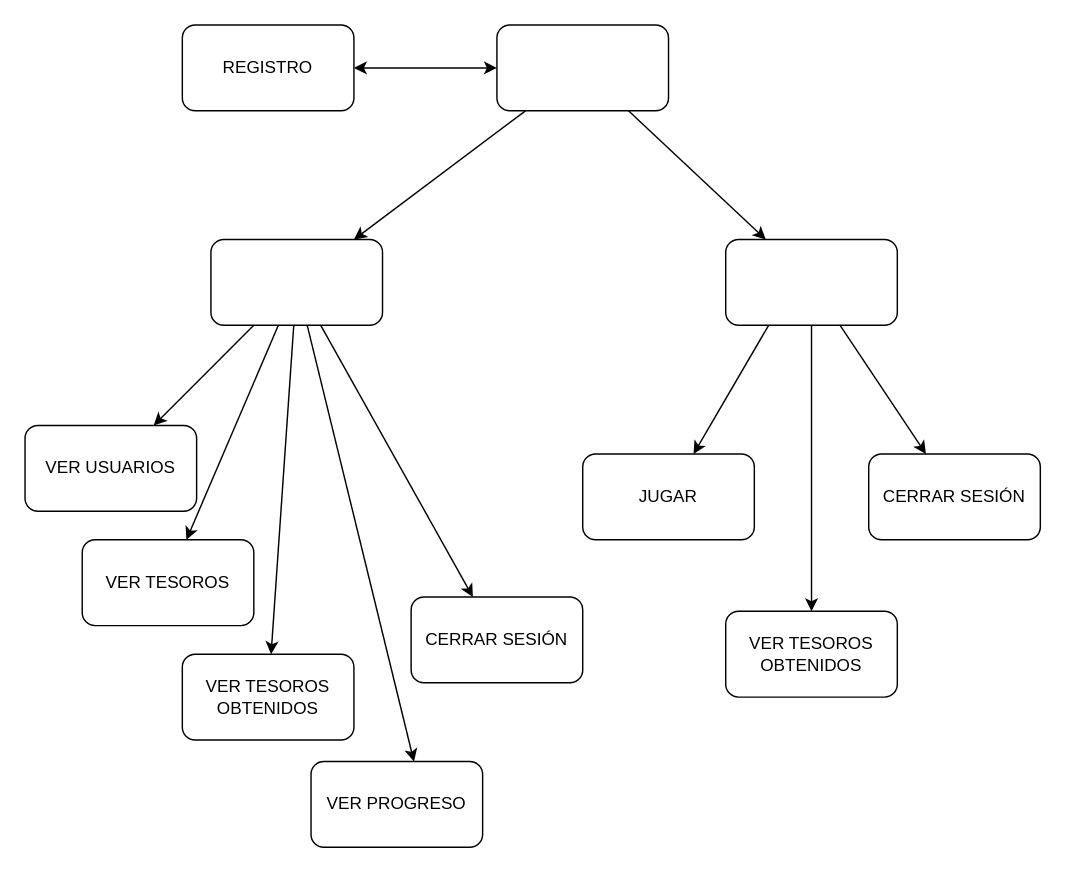
Image size: 1065x872. Some labels were removed from this diagram. Each missing label, with the box of its shape:
ADMINISTRADOR: (209, 238, 383, 325)
JUGADOR: (724, 238, 897, 325)
LOGIN: (495, 24, 669, 111)
